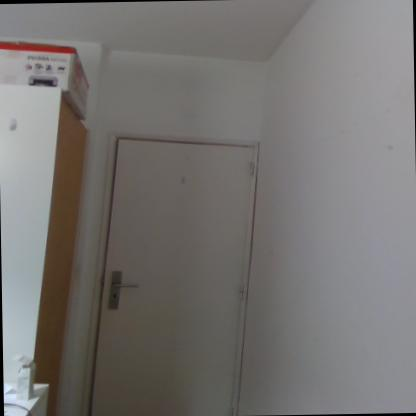closed: (78, 110, 287, 415)
